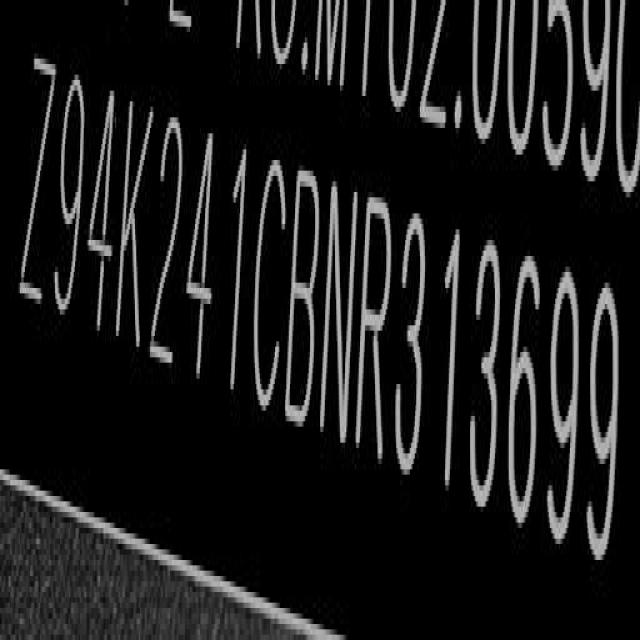1: (438, 224, 460, 498), (225, 144, 248, 402)
2: (152, 110, 184, 379)
3: (471, 238, 503, 516), (397, 214, 429, 486)
4: (188, 124, 222, 390), (88, 79, 118, 338)
6: (509, 250, 542, 533)
9: (548, 274, 582, 551), (50, 65, 86, 323), (590, 287, 622, 567)
B: (290, 165, 324, 438)
C: (251, 152, 287, 424)
K: (118, 92, 152, 355)
N: (323, 175, 358, 450)
R: (357, 195, 392, 469)
Z: (18, 49, 55, 312)
